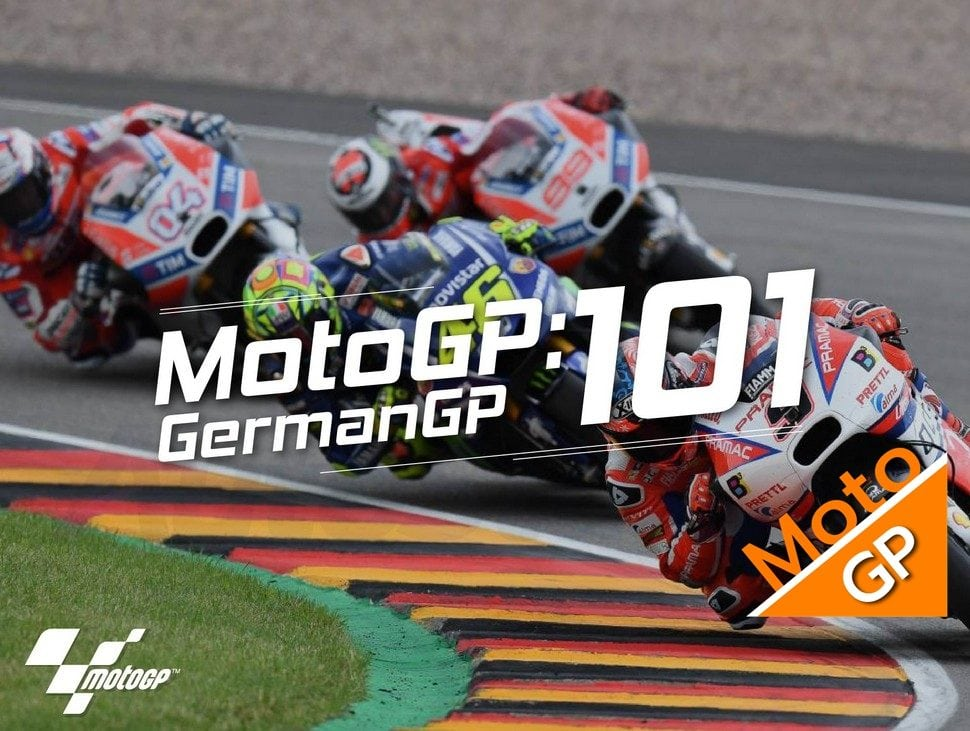helmet: (308, 122, 424, 235)
